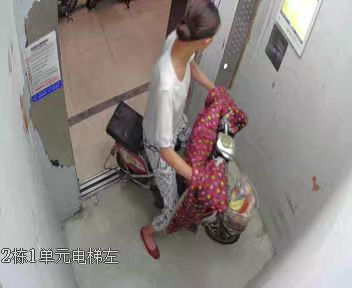Electric-bicycle: (107, 101, 252, 245)
